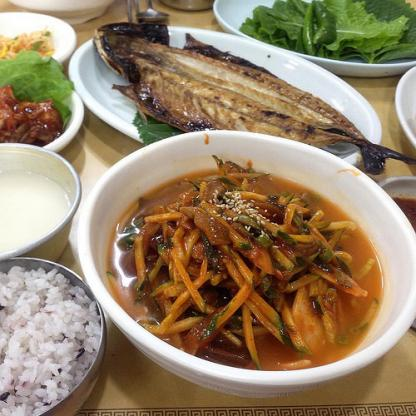Peixe: (100, 14, 401, 169)
